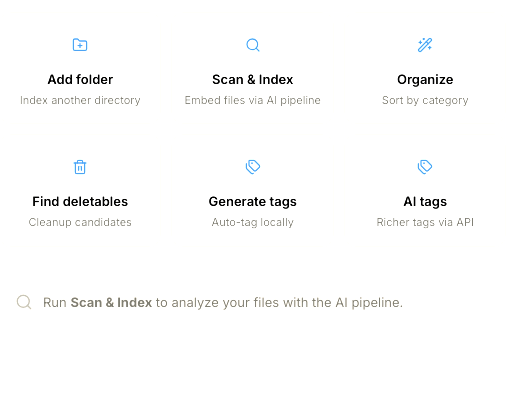
Test: ScanView enhanced progress & debug panel › debug panel is collapsed by default
Click the button "Scan & Index Embed files via AI pipeline" at [253, 68], box [172,12,334,124]
Wait 1100 ms
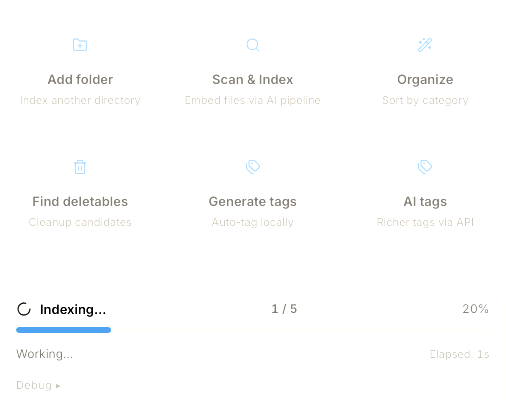
expect the text "Debug ▸" is shown: met, box [16,378,61,392]
